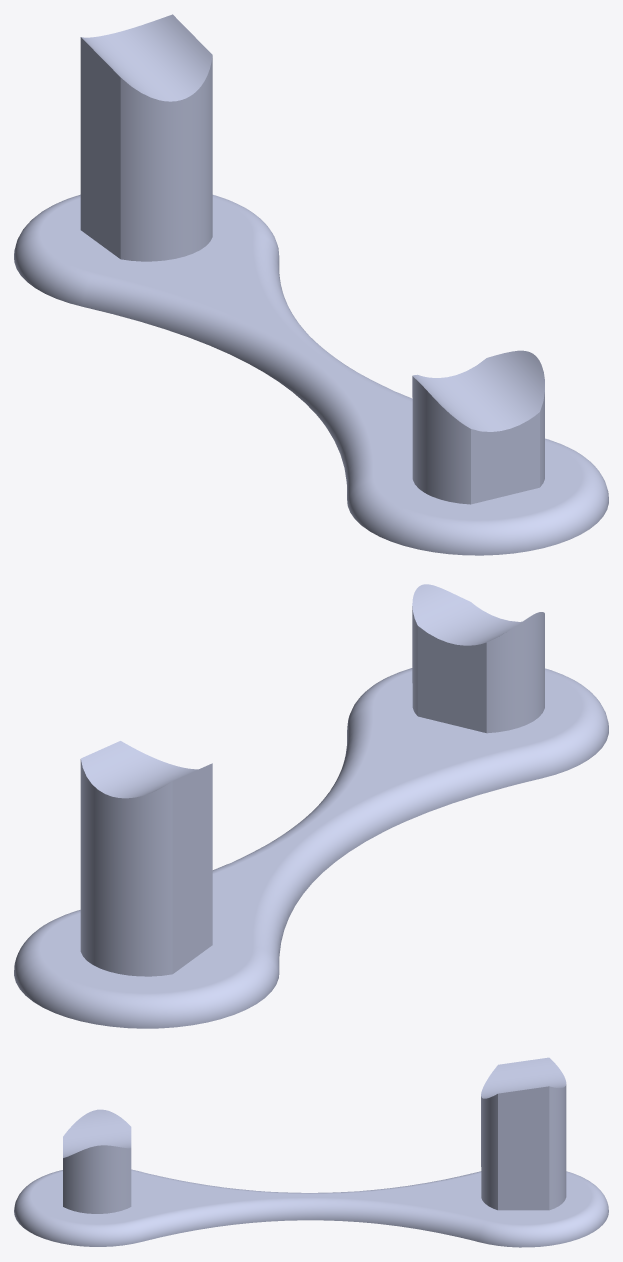
The model's file is razor-stand.glb.
The picture shows the model from 3 angles, top to bottom: view 1: azimuth 30°, elevation 25°; view 2: azimuth 150°, elevation 25°; view 3: azimuth 270°, elevation 25°; orthographic projection. The views are drawn at different scales.
Parts seen in each view (by area): view 1: Part 1; view 2: Part 1; view 3: Part 1.
Part boxes in pixels (x1=…): Part 1: x1=14, y1=14, x2=608, y2=555; Part 1: x1=14, y1=584, x2=608, y2=1028; Part 1: x1=14, y1=1057, x2=608, y2=1247.
Size of the model in its own units: 0.0254 by 0.0229 by 0.0886.
